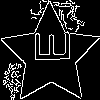E: (25, 30, 70, 64)
